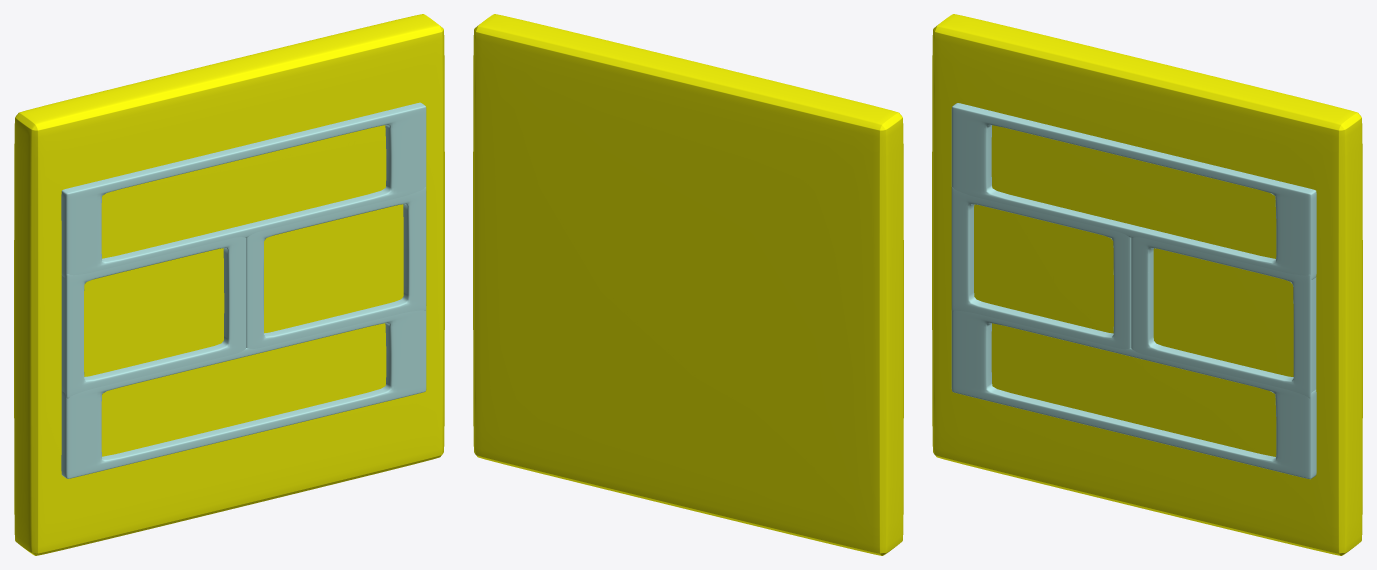
The picture shows the model from 3 angles, left to right: view 1: azimuth 30°, elevation 25°; view 2: azimuth 150°, elevation 25°; view 3: azimuth 330°, elevation 25°; orthographic projection.
Visible parts, largest first — view 1: polySurface1407; view 2: polySurface1407; view 3: polySurface1407.
Part boxes in pixels (<box>): polySurface1407: <box>14,14,444,555</box>; polySurface1407: <box>473,14,903,555</box>; polySurface1407: <box>932,14,1362,555</box>.
Bounding box in the file's own units: 0.9995 × 0.9995 × 0.1208.
